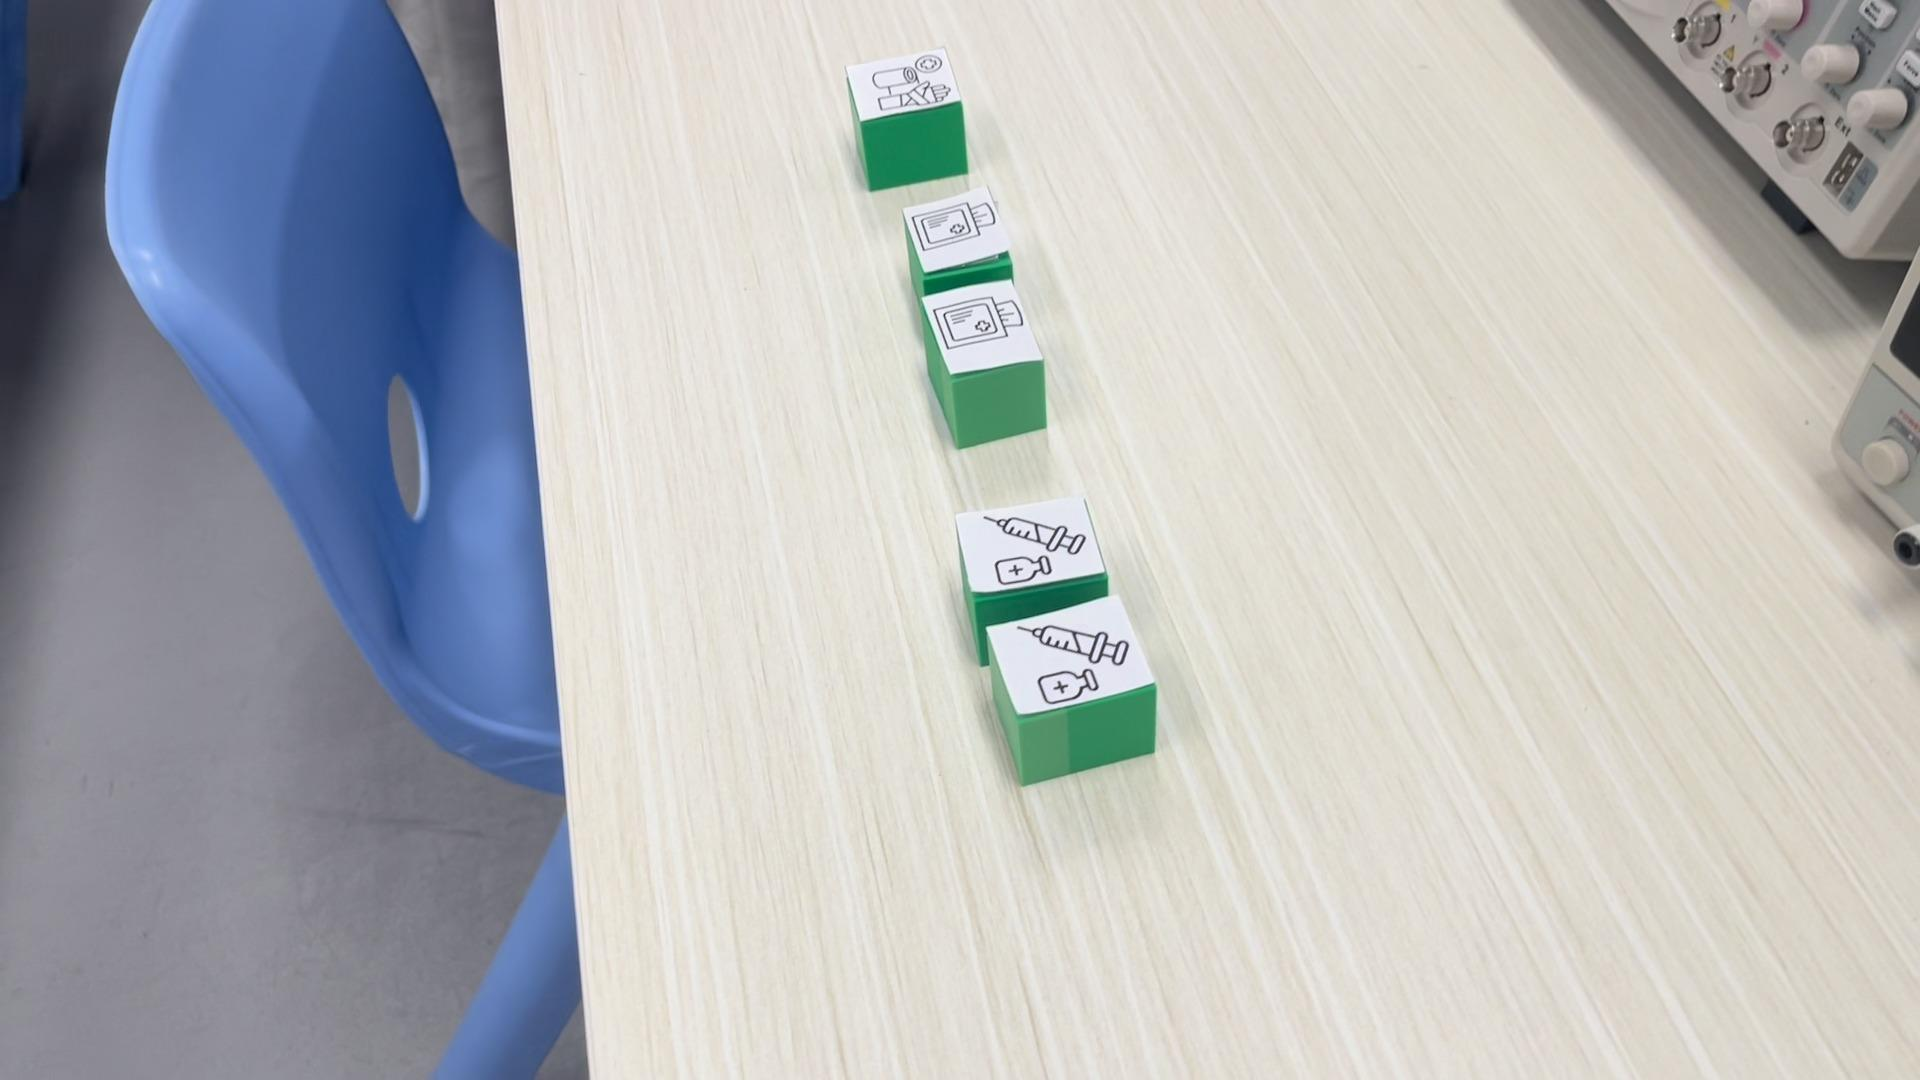Bandages: (845, 47, 968, 191)
Gauze: (923, 280, 1044, 451), (903, 187, 1014, 298)
antiseptic cream: (975, 585, 1158, 787), (953, 492, 1110, 621)
